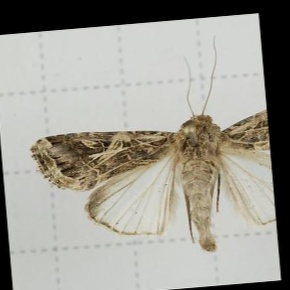Spodoptera litura: (29, 40, 269, 258)
